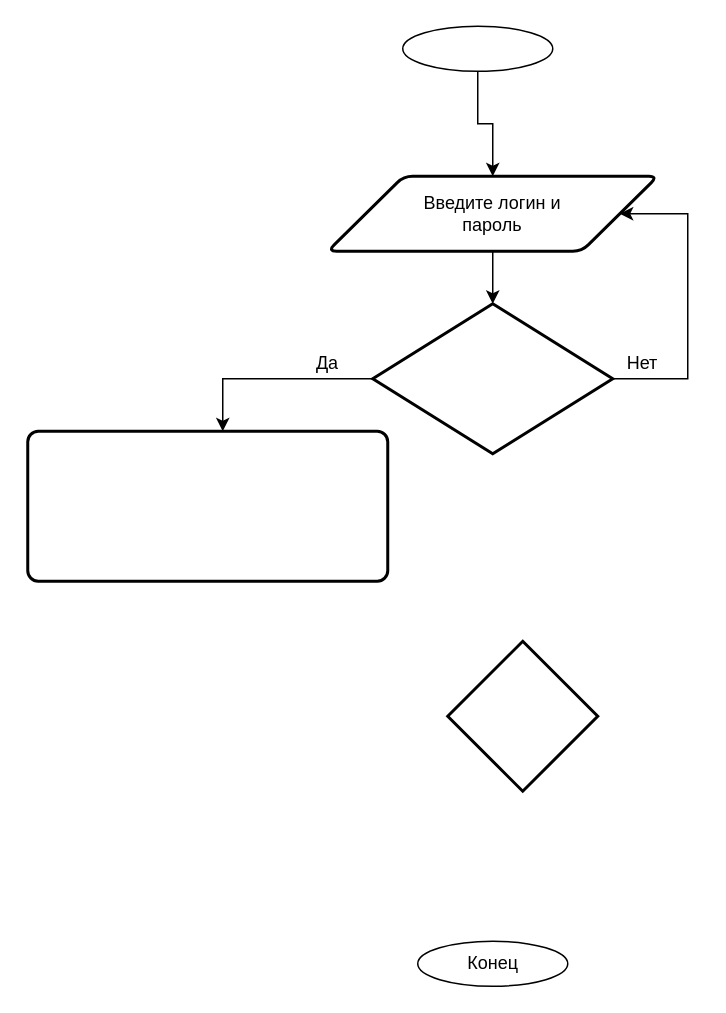
This 726x1013 diagram has some shape labels left out. Each missing label, with the box of its shape:
Начало: (401, 25, 553, 71)
Пользователь введ логин и пароль?: (370, 302, 614, 454)
